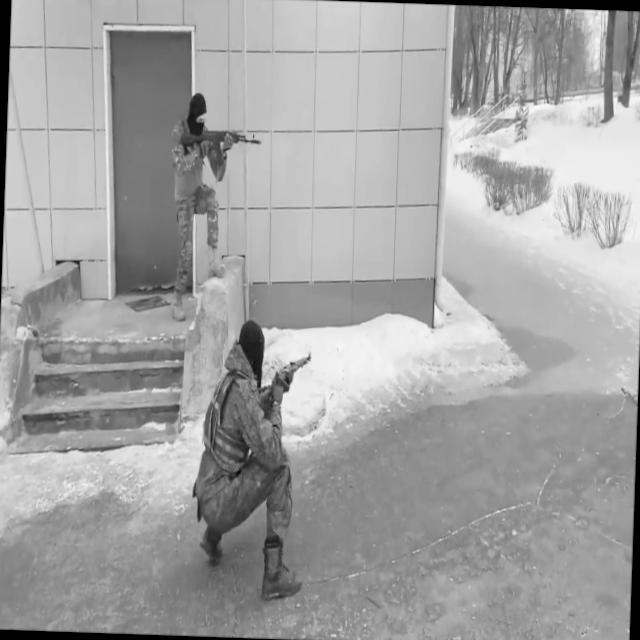gun: (258, 349, 312, 418), (180, 129, 262, 169)
person with a gun: (191, 318, 312, 603), (165, 90, 262, 324)
